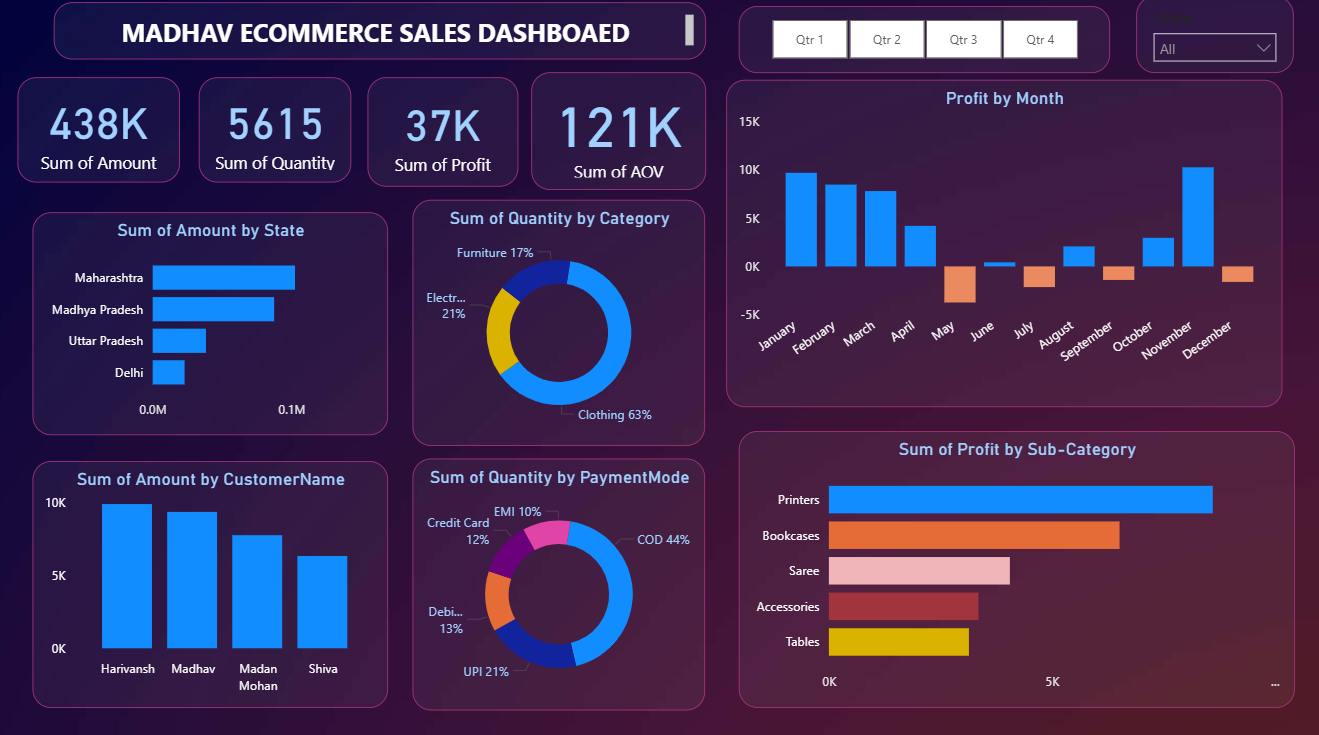

This screenshot's page, from the dashboard's own definition file:
{"tool":"powerbi","page":{"name":"Page 1","canvas":[1280,720],"ordinal":0},"visuals":[{"type":"textbox","box":[56.3,5.5,629.8,54.9],"z":0},{"type":"columnChart","title":"Profit by Month","fields":{"Category":["Orders.Order Date.Variation.Date Hierarchy.Month"],"Y":["Details.Profit"]},"box":[705.3,81,536.5,315.6],"z":1000},{"type":"barChart","fields":{"Category":["Details.Sub-Category"],"Y":["Details.Profit"]},"box":[717.7,419.9,536.5,267.6],"z":2000},{"type":"donutChart","fields":{"Category":["Details.Category"],"Y":["Details.Quantity"]},"box":[403.4,196.2,282.7,237.4],"z":3000},{"type":"donutChart","fields":{"Y":["Details.Quantity"],"Category":["Details.PaymentMode"]},"box":[403.4,446,282.7,242.9],"z":4000},{"type":"card","fields":{"Values":["Details.Amount"]},"box":[22,78.2,156.4,101.5],"z":5000},{"type":"card","fields":{"Values":["Details.Quantity"]},"box":[196.2,78.2,146.8,101.5],"z":6000},{"type":"card","fields":{"Values":["Details.Profit"]},"box":[359.5,78.2,145.5,105.7],"z":7000},{"type":"card","fields":{"Values":["Details.AOV"]},"box":[517.3,74.1,168.8,113.9],"z":8000},{"type":"barChart","fields":{"Category":["Orders.State"],"Y":["Details.Amount"]},"box":[35.7,208.6,343.1,215.4],"z":9000},{"type":"columnChart","fields":{"Category":["Orders.CustomerName"],"Y":["Details.Amount"]},"box":[35.7,448.7,343.1,238.8],"z":10000},{"type":"slicer","fields":{"Values":["Orders.Order Date.Variation.Date Hierarchy.Quarter"]},"box":[717.7,9.6,358.1,64.5],"z":11000},{"type":"slicer","fields":{"Values":["Orders.State"]},"box":[1101.9,0,152.3,74.1],"z":12000}]}

Visuals, with their boxes in screenshot pixels (x1, y1, x2, y2), scaled from the page's 1280x720 canvas onto the 1319x735 screenshot:
textbox: x1=58 y1=6 x2=707 y2=62
"Profit by Month" columnChart: x1=727 y1=83 x2=1280 y2=405
barChart - Details.Sub-Category x Details.Profit: x1=740 y1=429 x2=1292 y2=702
donutChart - Details.Category x Details.Quantity: x1=416 y1=200 x2=707 y2=443
donutChart - Details.Quantity x Details.PaymentMode: x1=416 y1=455 x2=707 y2=703
card - Details.Amount: x1=23 y1=80 x2=184 y2=183
card - Details.Quantity: x1=202 y1=80 x2=353 y2=183
card - Details.Profit: x1=370 y1=80 x2=520 y2=188
card - Details.AOV: x1=533 y1=76 x2=707 y2=192
barChart - Orders.State x Details.Amount: x1=37 y1=213 x2=390 y2=433
columnChart - Orders.CustomerName x Details.Amount: x1=37 y1=458 x2=390 y2=702
slicer - Orders.Order Date.Variation.Date Hierarchy.Quarter: x1=740 y1=10 x2=1109 y2=76
slicer - Orders.State: x1=1135 y1=0 x2=1292 y2=76
